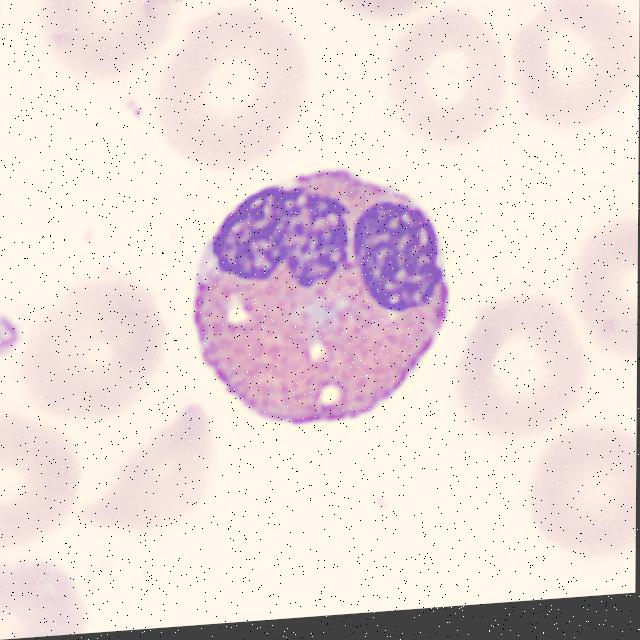eosinophil: (194, 157, 451, 439)
rbc: (149, 0, 331, 177), (448, 278, 593, 440), (11, 278, 168, 420), (509, 399, 636, 566), (385, 16, 508, 143), (520, 0, 634, 136), (0, 534, 135, 640), (31, 0, 182, 91), (0, 394, 84, 537), (568, 194, 638, 357), (321, 0, 457, 34)
